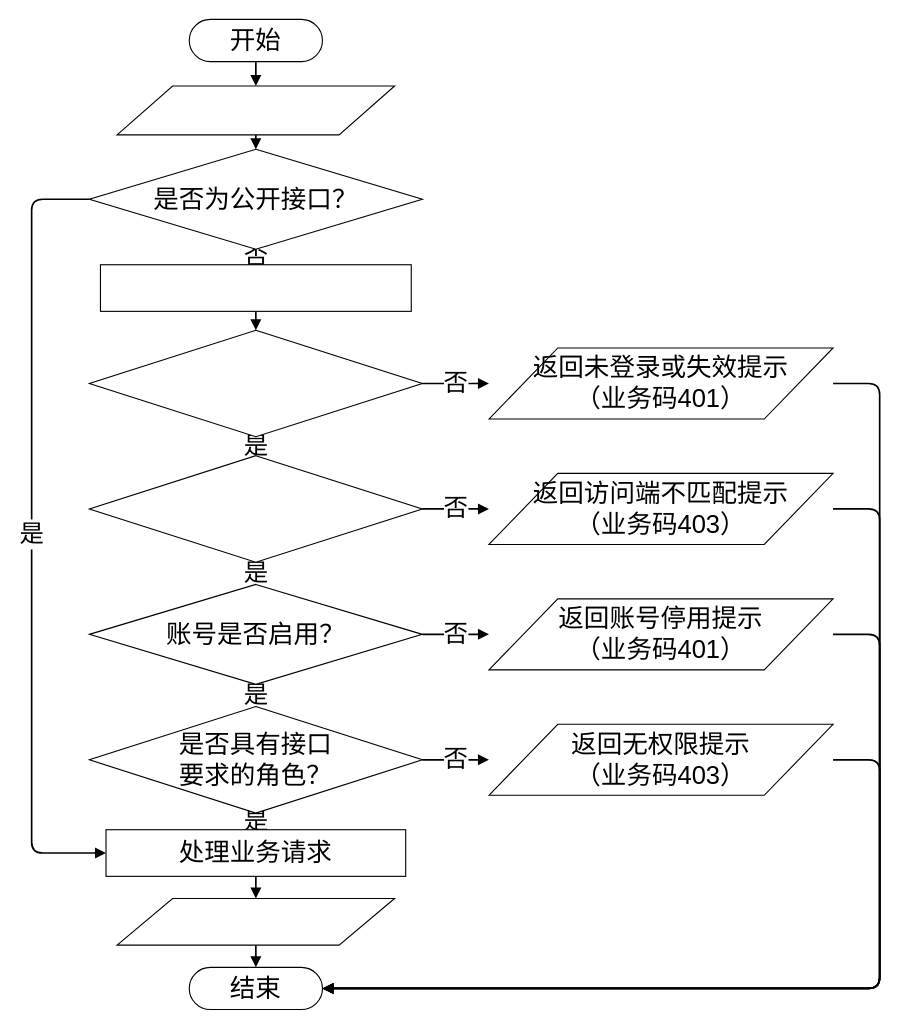
This 908x1029 diagram has some shape labels left out. Here are the shapes that lost their labels. From the top down, the centre of each, then its label:
At (255,110): "接收接口请求".
At (255,287): "提取请求中的令牌".
At (255,383): "签名及有效期 是否通过校验？".
At (255,508): "账号类型与访问端 是否匹配？".
At (255,921): "返回业务结果".
